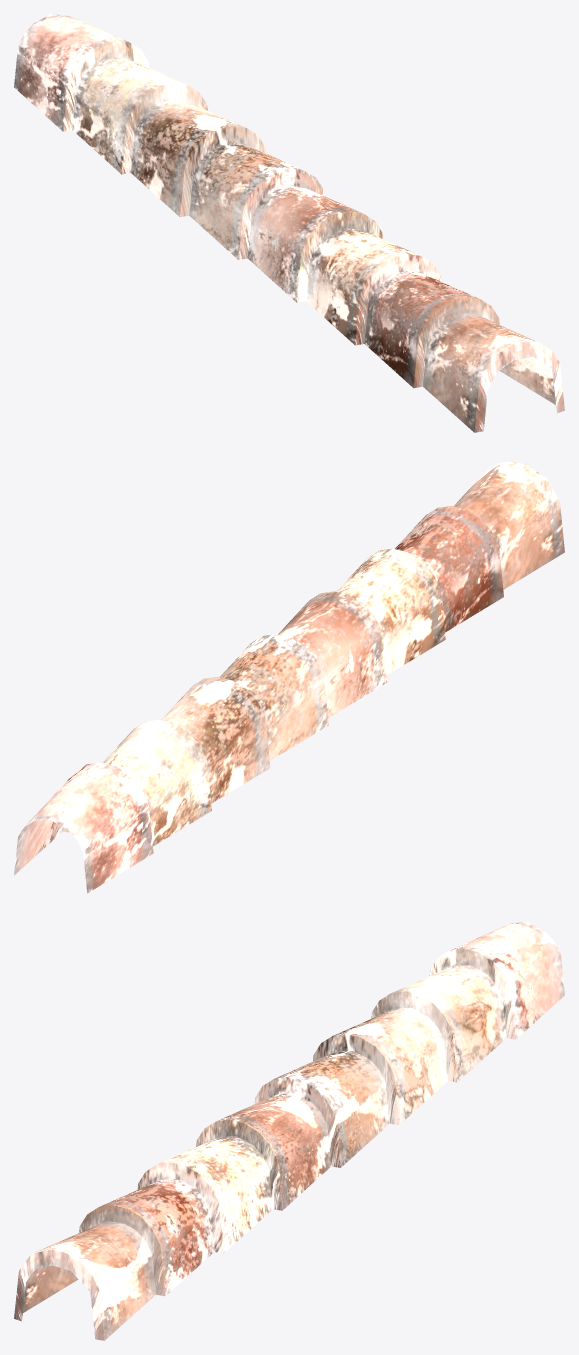
Rendered from SM_roof_A_top_part_4_01.fbx.
3 views of the same model, one above another, from view 1: azimuth 30°, elevation 25°; view 2: azimuth 150°, elevation 25°; view 3: azimuth 330°, elevation 25° (orthographic).
Parts seen in each view (by area): view 1: SM_roof_A_top_part_4_01_LOD0; view 2: SM_roof_A_top_part_4_01_LOD0; view 3: SM_roof_A_top_part_4_01_LOD0.
Part boxes in pixels (<box>): SM_roof_A_top_part_4_01_LOD0: <box>14,14,564,432</box>; SM_roof_A_top_part_4_01_LOD0: <box>14,461,564,893</box>; SM_roof_A_top_part_4_01_LOD0: <box>14,922,564,1340</box>.
Bounding box in the file's own units: 44.51 × 400 × 36.78.
1 material, 1 textured.
